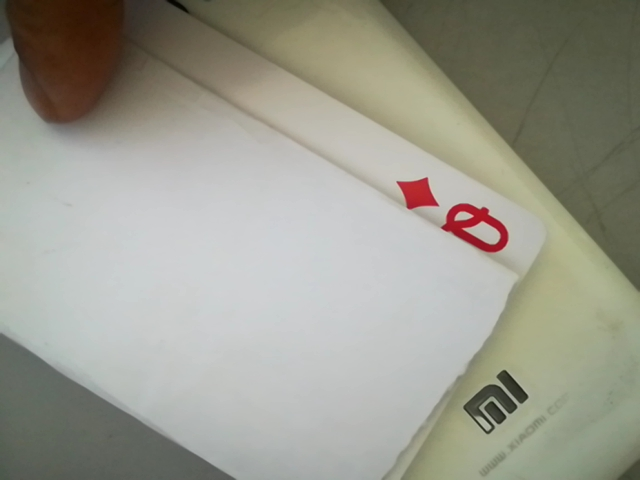fk q: (393, 169, 530, 262)
